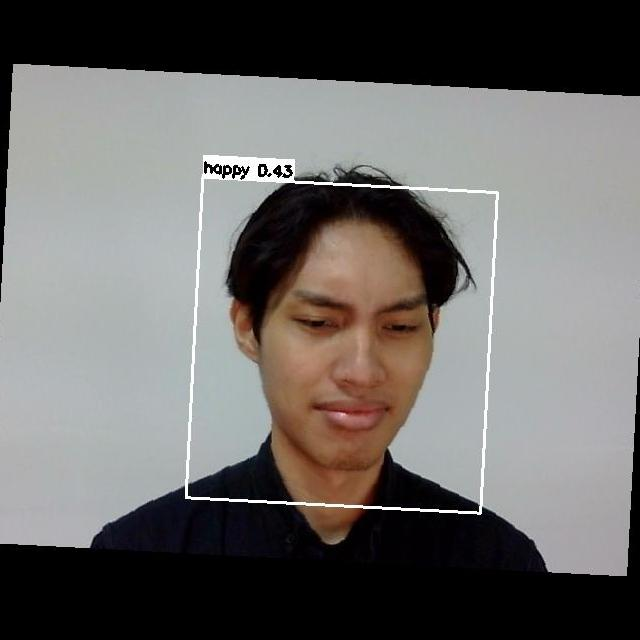Disgust: (252, 258, 452, 459)
